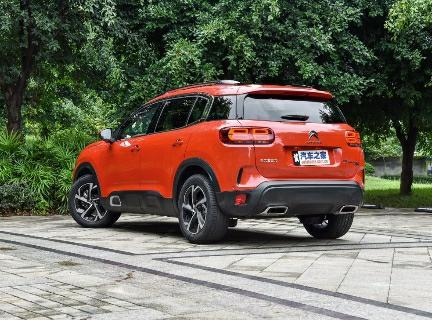car: (60, 82, 371, 248)
